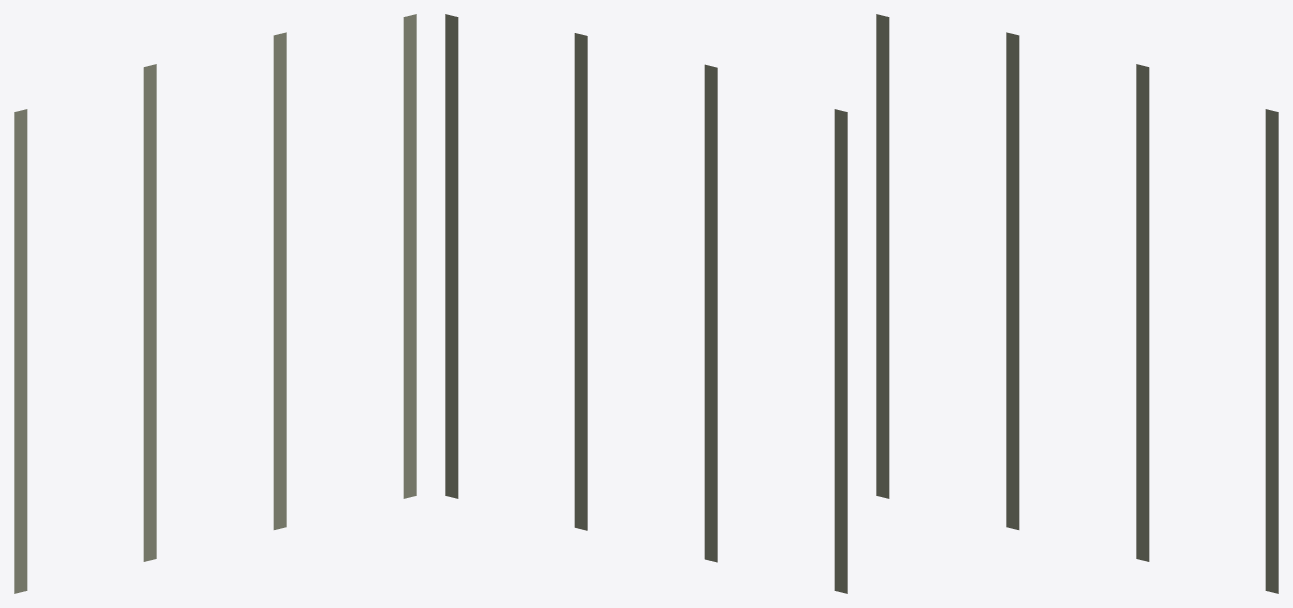
File: lnwr-end-pannelling.dae
3 views of the same model, side by side, from view 1: azimuth 30°, elevation 25°; view 2: azimuth 150°, elevation 25°; view 3: azimuth 330°, elevation 25° (orthographic).
Visible parts, largest first — view 1: Plane_119, Plane_088, Plane_121, Plane_120; view 2: Plane_119, Plane_088, Plane_121, Plane_120; view 3: Plane_119, Plane_088, Plane_121, Plane_120.
Boxes of the visible parts, x1,y1,x2,y2 form: Plane_119: (273, 32, 286, 529); Plane_088: (143, 64, 156, 561); Plane_121: (14, 109, 27, 593); Plane_120: (403, 14, 416, 498); Plane_119: (574, 33, 587, 530); Plane_088: (704, 64, 717, 562); Plane_121: (834, 109, 847, 593); Plane_120: (445, 14, 458, 498); Plane_119: (1136, 64, 1149, 561); Plane_088: (1006, 32, 1019, 529); Plane_121: (876, 14, 889, 498); Plane_120: (1265, 109, 1278, 593).
Size of the model in its own units: 1.24 by 0.00181 by 1.46.
